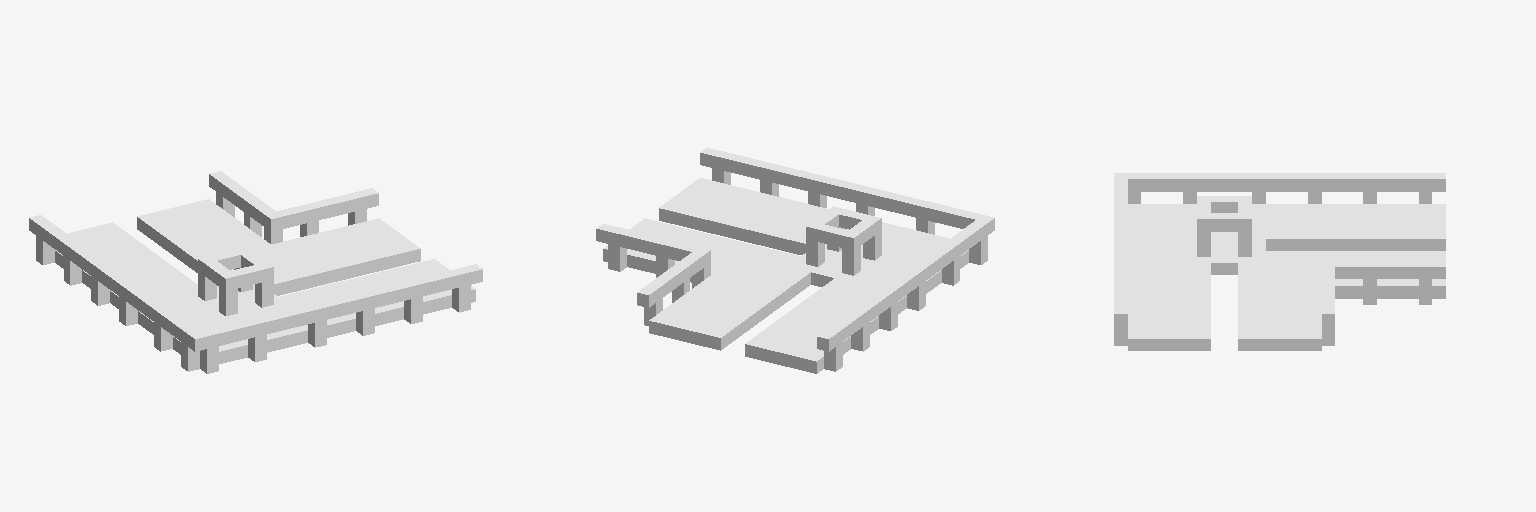
The model's file is roadCorner2.obj.
3 renders of one model, left to right at view 1: azimuth 30°, elevation 25°; view 2: azimuth 150°, elevation 25°; view 3: azimuth 270°, elevation 25°, orthographic.
Parts seen in each view (by area): view 1: object 1; view 2: object 1; view 3: object 1.
Boxes of the visible parts, <box> form: object 1: <box>29,171,482,373</box>; object 1: <box>596,148,994,373</box>; object 1: <box>1114,173,1445,350</box>.
Bounding box in the file's own units: 2.4 × 0.4 × 2.4.